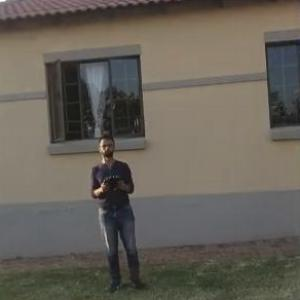follow: (88, 126, 145, 296)
